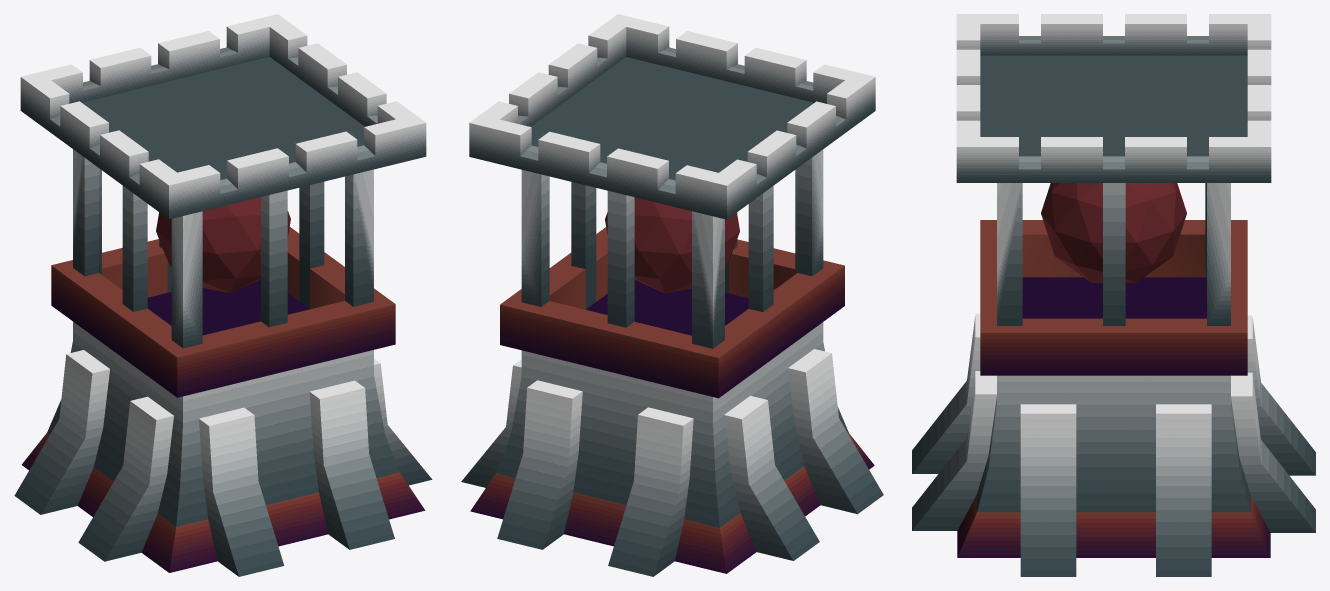
File: Fire Tower.fbx
3 views of the same model, side by side, from view 1: azimuth 30°, elevation 25°; view 2: azimuth 150°, elevation 25°; view 3: azimuth 270°, elevation 25° (orthographic). The views are drawn at different scales.
Parts seen in each view (by area): view 1: Fire Tower, Crimson Crystal; view 2: Fire Tower, Crimson Crystal; view 3: Fire Tower, Crimson Crystal.
Boxes of the visible parts, x1,y1,x2,y2 form: Fire Tower: [14, 14, 432, 576]; Crimson Crystal: [156, 197, 290, 293]; Fire Tower: [461, 14, 883, 576]; Crimson Crystal: [605, 197, 739, 293]; Fire Tower: [912, 14, 1315, 576]; Crimson Crystal: [1041, 183, 1186, 282].
Bounding box in the file's own units: 54.04 × 60.69 × 54.04.
